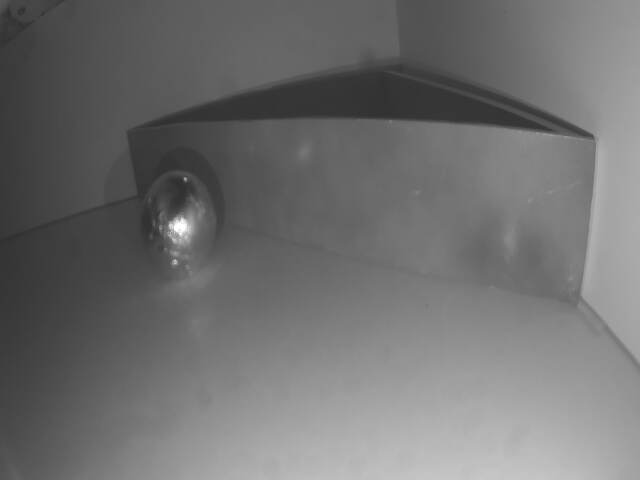Live: (138, 174, 218, 278)
Red: (126, 126, 588, 307)
